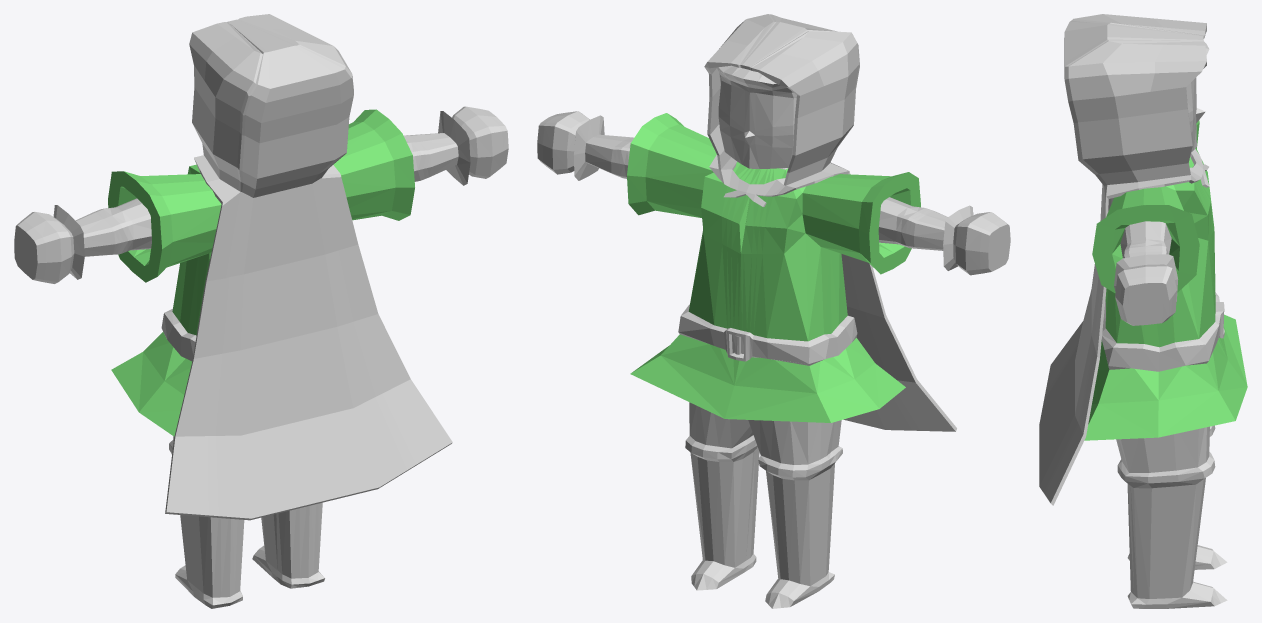
The model's file is char.fbx.
3 views of the same model, side by side, from view 1: azimuth 30°, elevation 25°; view 2: azimuth 150°, elevation 25°; view 3: azimuth 270°, elevation 25° (orthographic). The views are drawn at different scales.
Parts seen in each view (by area): view 1: coat, char; view 2: char, coat; view 3: char, coat.
Boxes of the visible parts, x1,y1,x2,y2 form: coat: [165, 14, 452, 520]; char: [14, 106, 508, 608]; char: [537, 65, 1010, 608]; coat: [704, 14, 956, 431]; char: [1084, 43, 1247, 608]; coat: [1039, 14, 1209, 505].
Size of the model in its own units: 2036 by 2304 by 787.
